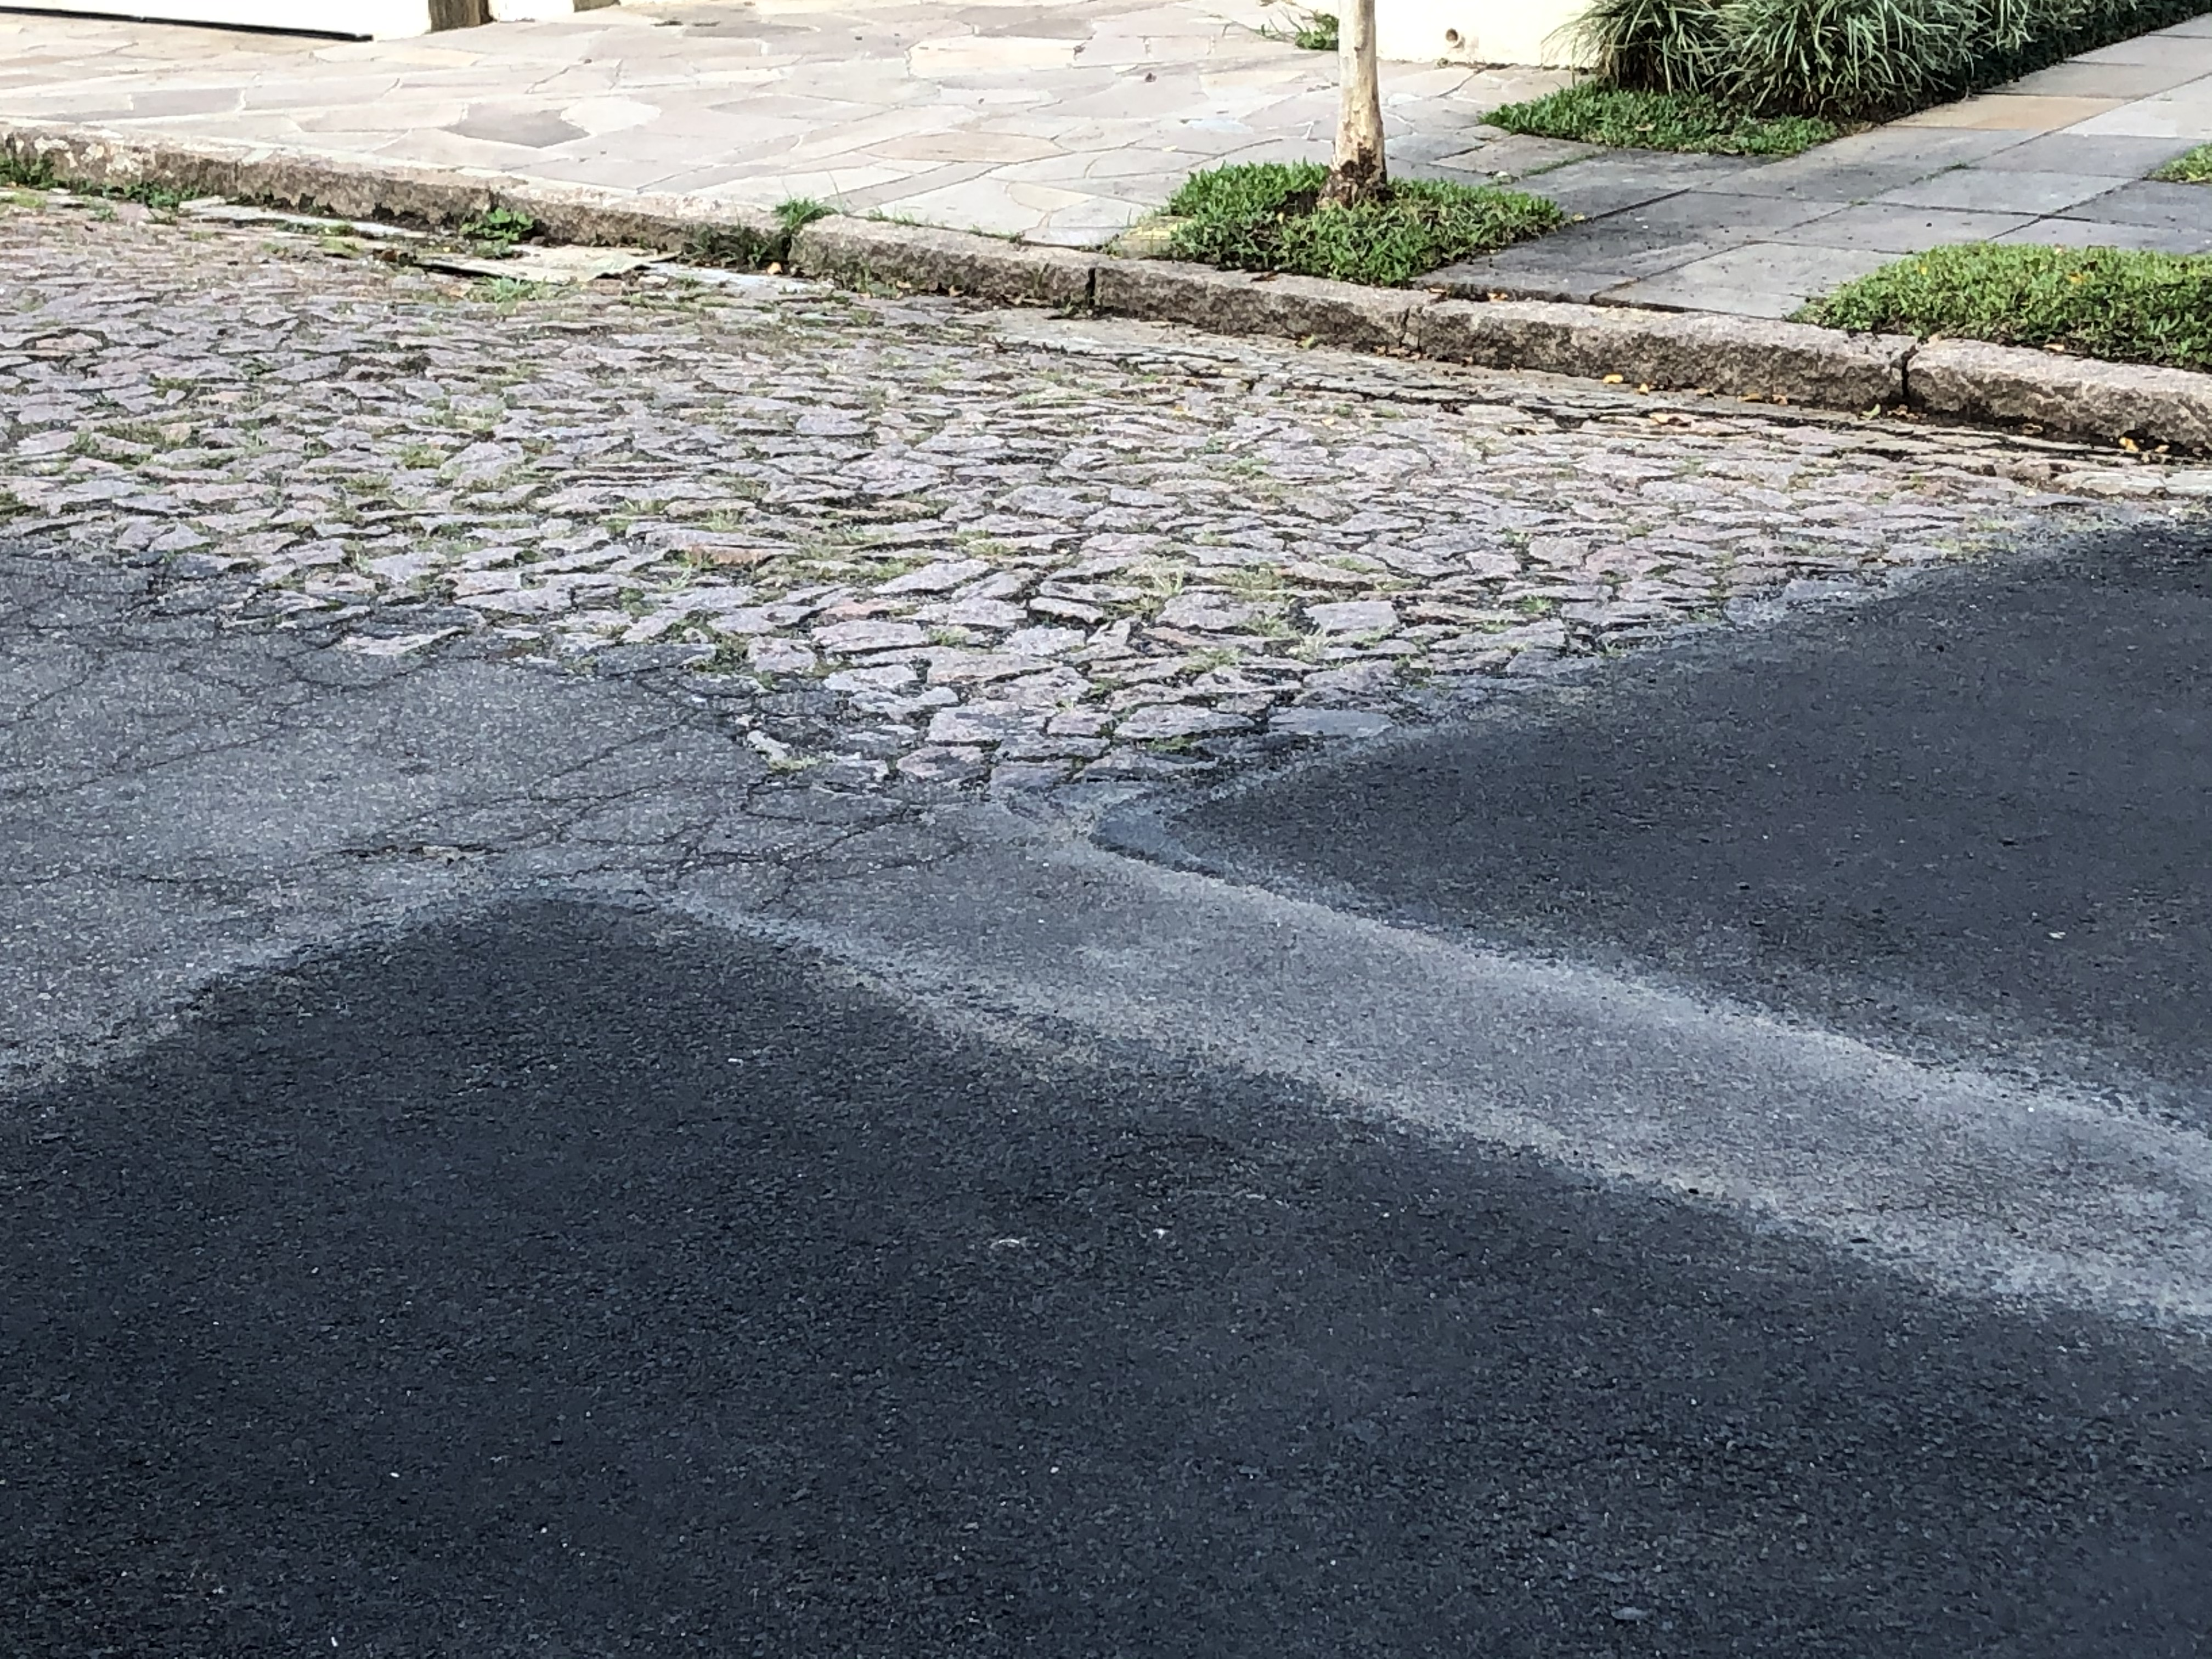vag62: (134, 42, 2198, 645)
